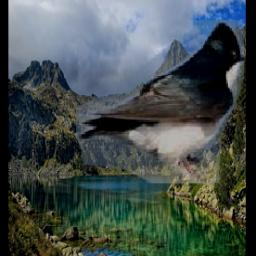Swallow: (77, 20, 245, 183)
